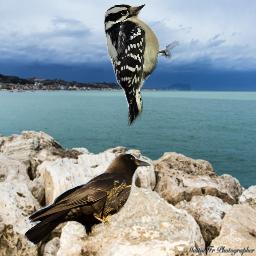Crow: (24, 150, 153, 249)
Woodpecker: (102, 1, 179, 126)
